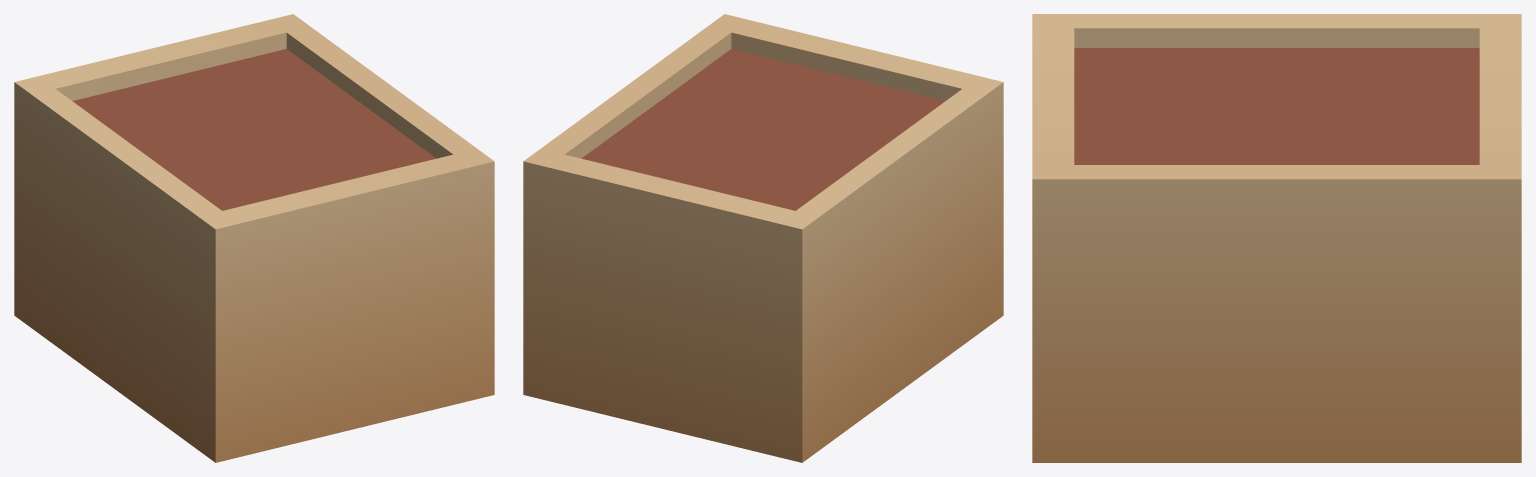
File: MediumHouse02.fbx
3 renders of one model, left to right at view 1: azimuth 30°, elevation 25°; view 2: azimuth 150°, elevation 25°; view 3: azimuth 270°, elevation 25°, orthographic. The views are drawn at different scales.
Visible parts, largest first — view 1: MediumHouse02; view 2: MediumHouse02; view 3: MediumHouse02.
Boxes of the visible parts, x1=… form: MediumHouse02: x1=14, y1=14, x2=494, y2=462; MediumHouse02: x1=523, y1=14, x2=1003, y2=462; MediumHouse02: x1=1032, y1=14, x2=1521, y2=462.
Bounding box in the file's own units: 2 × 1.6 × 2.5.
1 material, 1 textured.
